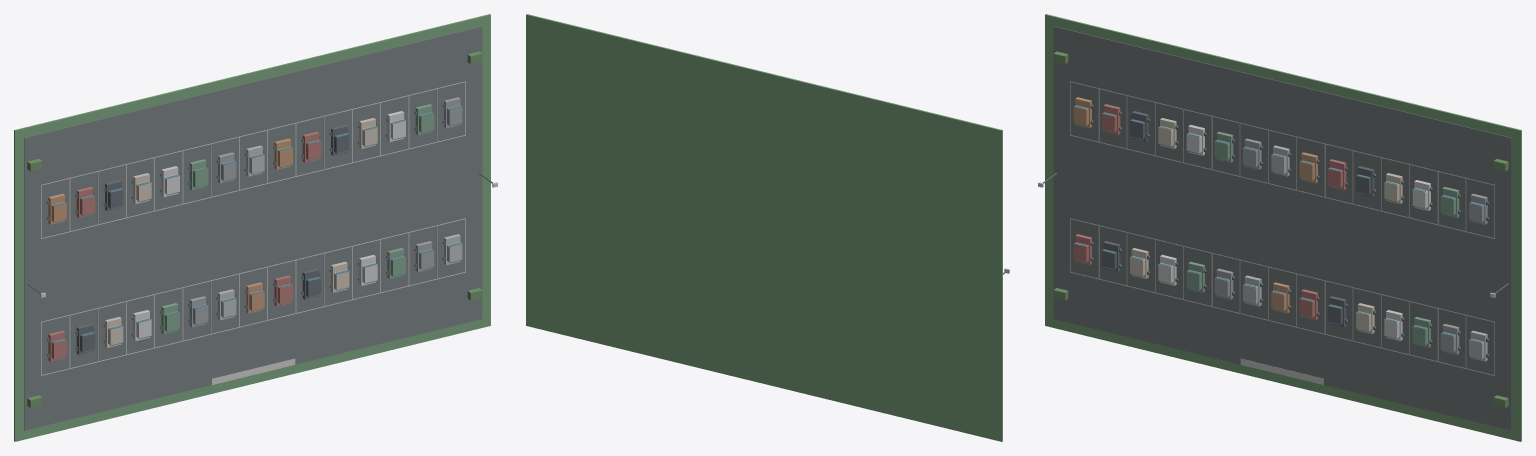
Rendered from car_park.glb.
The picture shows the model from 3 angles, left to right: view 1: azimuth 30°, elevation 25°; view 2: azimuth 150°, elevation 25°; view 3: azimuth 330°, elevation 25°; orthographic projection.
Visible parts, largest first — view 1: tarmac, grass, white, dark, green, red, stone, cream, orange, silver, glassdark, hedge; view 2: grass; view 3: tarmac, grass, white, dark, red, stone, green, cream, silver, orange, glassdark, hedge.
Part boxes in pixels (x1,y1,x2,y2): tarmac: [24, 26, 482, 430]; grass: [14, 14, 490, 441]; white: [40, 81, 497, 384]; dark: [27, 101, 492, 357]; green: [161, 104, 434, 334]; red: [48, 131, 321, 361]; stone: [189, 97, 462, 327]; cream: [105, 118, 377, 347]; orange: [48, 138, 292, 313]; silver: [218, 145, 462, 320]; glassdark: [53, 105, 461, 359]; hedge: [27, 51, 482, 407]; grass: [526, 14, 1002, 441]; tarmac: [1053, 26, 1511, 430]; grass: [1045, 14, 1521, 441]; white: [1038, 81, 1495, 384]; dark: [1043, 101, 1508, 357]; red: [1073, 104, 1346, 320]; stone: [1214, 138, 1487, 354]; green: [1186, 131, 1459, 347]; cream: [1130, 118, 1402, 334]; silver: [1243, 145, 1487, 361]; orange: [1073, 97, 1317, 313]; glassdark: [1074, 105, 1482, 359]; hedge: [1053, 51, 1508, 407].
Size of the model in its own units: 80 by 50 by 5.11.
